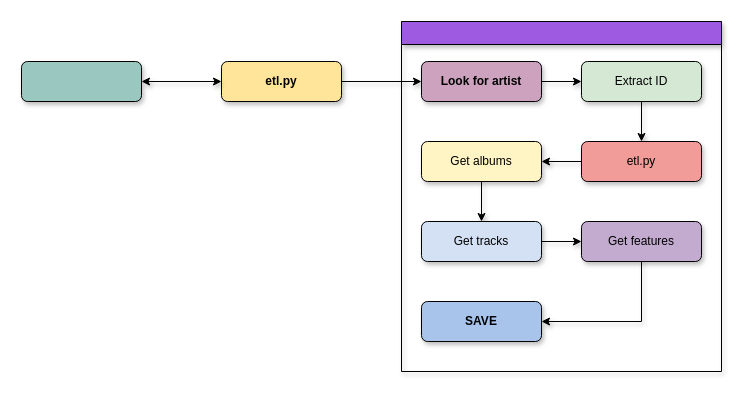
Image size: 745x396. Some labels were removed from this diagram. Here are the shapes that lost their labels. From the top down, the centre of each, then its label:
At pixel 82 82: "Spotify API".
At pixel 562 197: "EXTRACT-TRANSFORM-LOAD PIPELINE".
